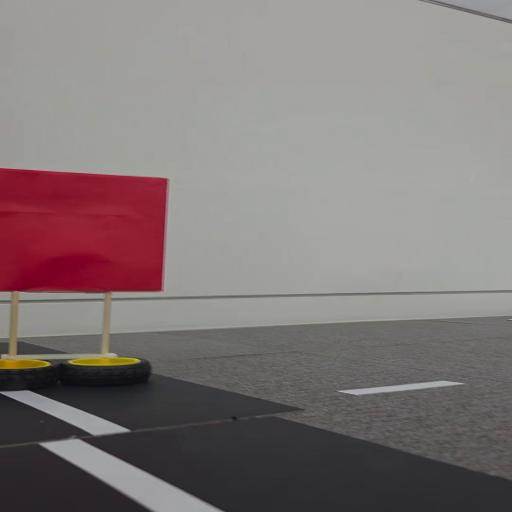Sign_A: (3, 165, 178, 394)
